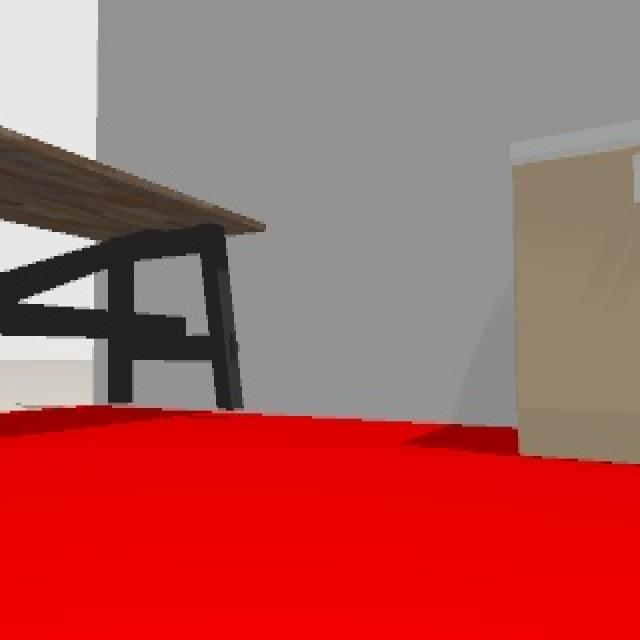dining: (1, 125, 265, 412)
